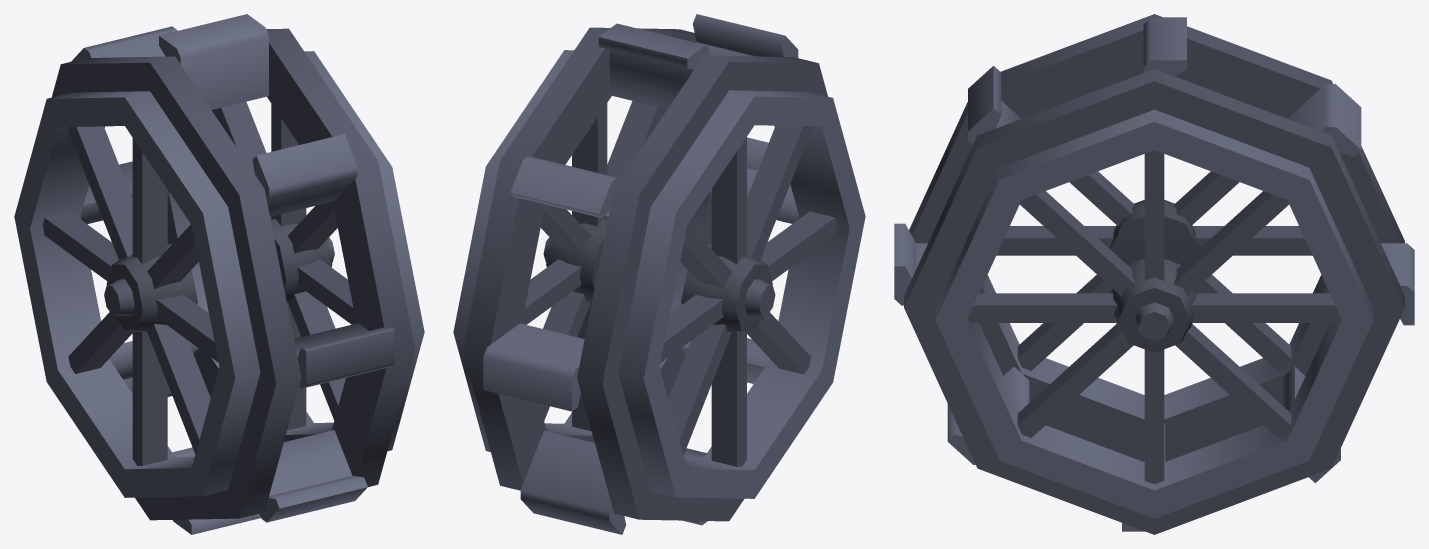
Rendered from watermill.glb.
The picture shows the model from 3 angles, left to right: view 1: azimuth 30°, elevation 25°; view 2: azimuth 150°, elevation 25°; view 3: azimuth 270°, elevation 25°; orthographic projection.
Parts seen in each view (by area): view 1: watermill; view 2: watermill; view 3: watermill.
Boxes of the visible parts, left/top/right/bottom form: watermill: left=14, top=14, right=424, bottom=534; watermill: left=453, top=14, right=865, bottom=534; watermill: left=894, top=14, right=1414, bottom=534.
Size of the model in its own units: 0.85 by 1.8 by 1.8.
Materials: 1 (1 with a texture image).
